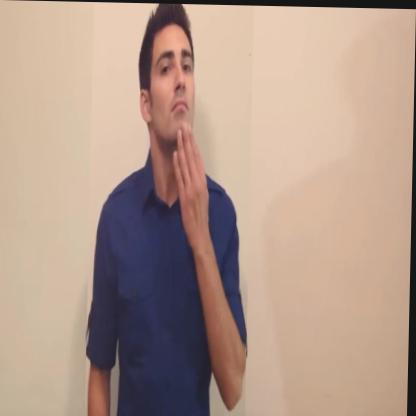ThankYou: (87, 2, 254, 416)
